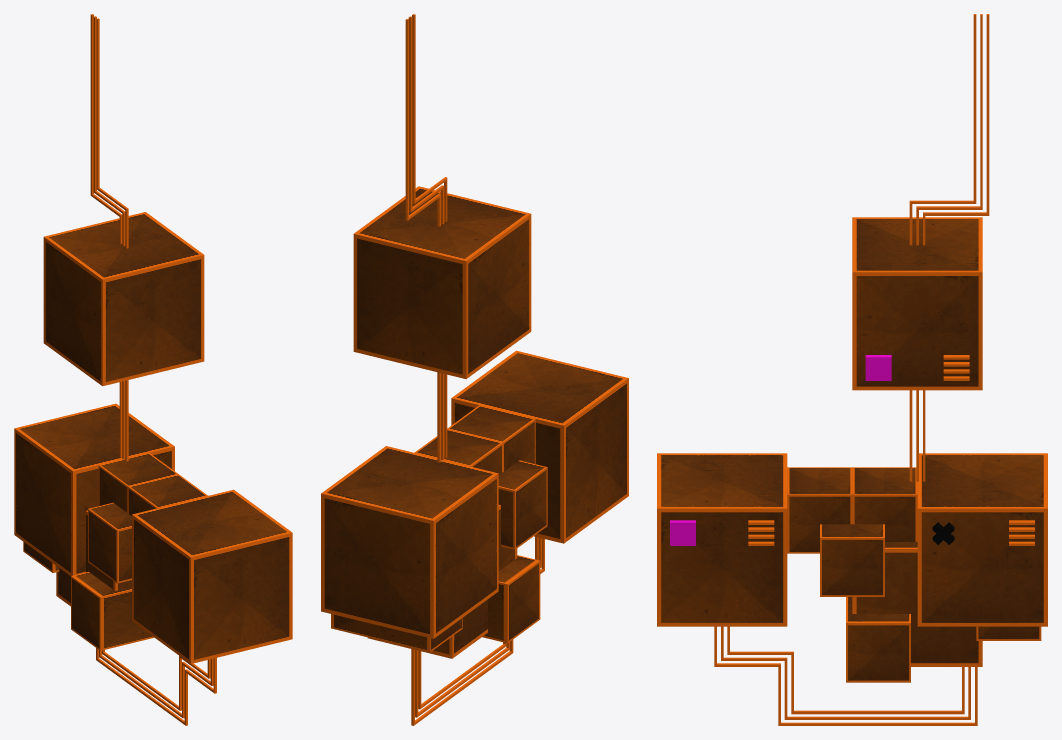
The model's file is congregation.obj.
3 renders of one model, left to right at view 1: azimuth 30°, elevation 25°; view 2: azimuth 150°, elevation 25°; view 3: azimuth 270°, elevation 25°, orthographic. The views are drawn at different scales.
Parts seen in each view (by area): view 1: Final; view 2: Final; view 3: Final.
Part boxes in pixels (box(x1,y1,x2,y2)): Final: box(14, 14, 292, 725); Final: box(321, 14, 628, 725); Final: box(657, 14, 1047, 725).
Size of the model in its own units: 11.05 by 60.2 by 30.
1 material, 1 textured.
